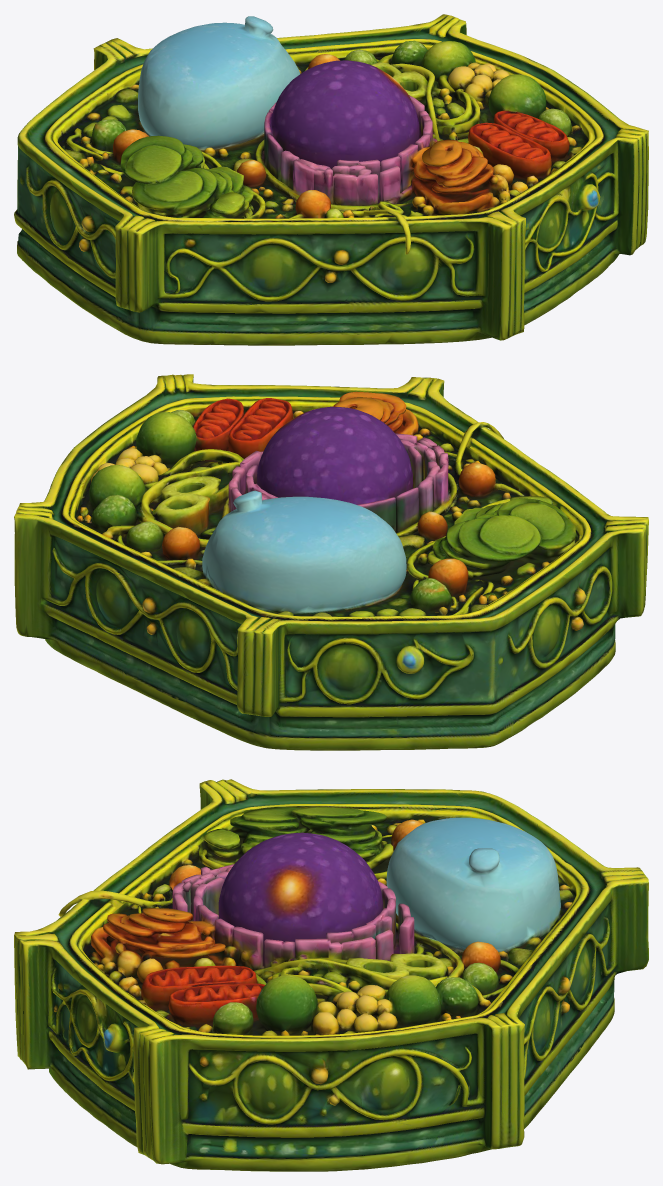
The model's file is celula vegetal en blg.glb.
3 views of the same model, one above another, from view 1: azimuth 30°, elevation 25°; view 2: azimuth 150°, elevation 25°; view 3: azimuth 270°, elevation 25° (orthographic). The views are drawn at different scales.
Parts seen in each view (by area): view 1: tripo_mesh_f390acbb_cbe4_4680_9472_425aef6fbcc8; view 2: tripo_mesh_f390acbb_cbe4_4680_9472_425aef6fbcc8; view 3: tripo_mesh_f390acbb_cbe4_4680_9472_425aef6fbcc8.
Part boxes in pixels (x1=…): tripo_mesh_f390acbb_cbe4_4680_9472_425aef6fbcc8: x1=14, y1=14, x2=648, y2=345; tripo_mesh_f390acbb_cbe4_4680_9472_425aef6fbcc8: x1=14, y1=374, x2=648, y2=750; tripo_mesh_f390acbb_cbe4_4680_9472_425aef6fbcc8: x1=14, y1=779, x2=648, y2=1171.
Size of the model in its own units: 0.9824 by 0.3647 by 1.
Materials: 1 (1 with a texture image).
